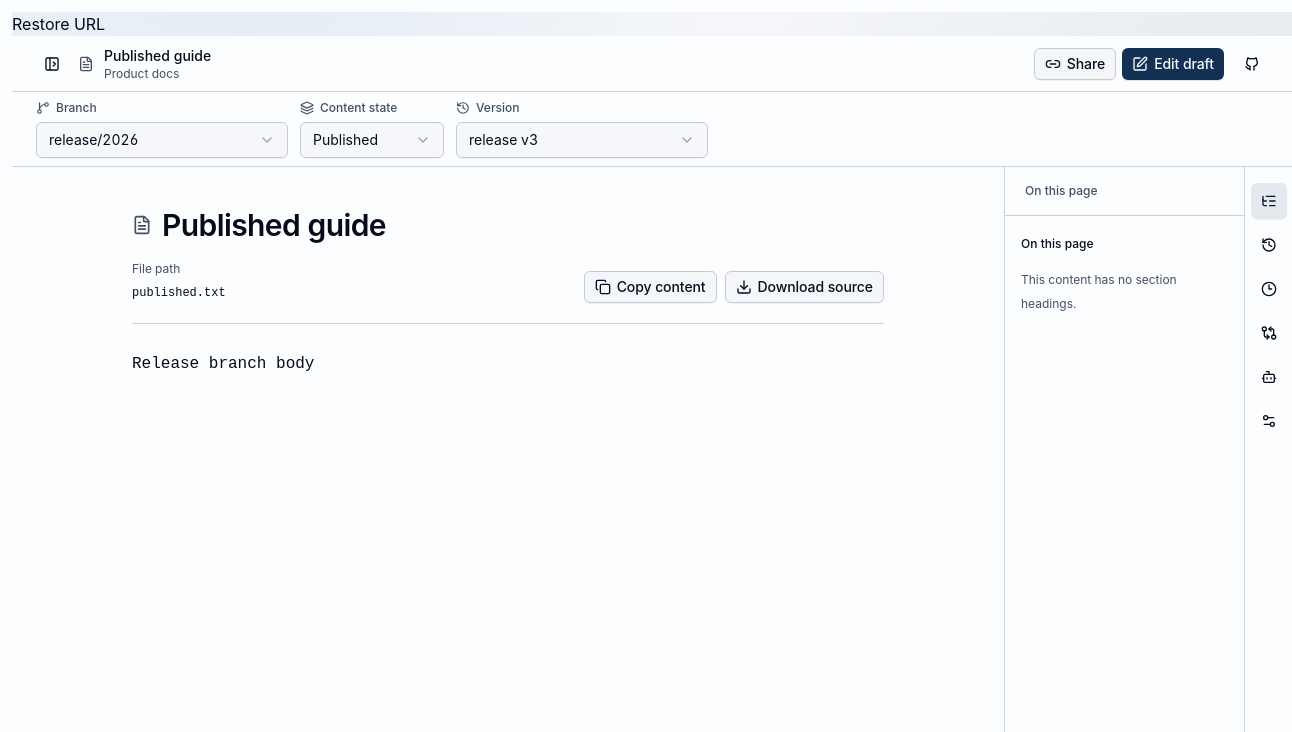
Test: document workspace › switches published and draft reading contexts within the current branch
The image size is (1292, 732).
Expected: the text "Release branch body" is shown, [132, 355, 314, 373]
What coordinates should you click on to do the following:
click the dropdown named "Content state"
I would click on:
 (372, 140)
Its box is [300, 122, 444, 158].
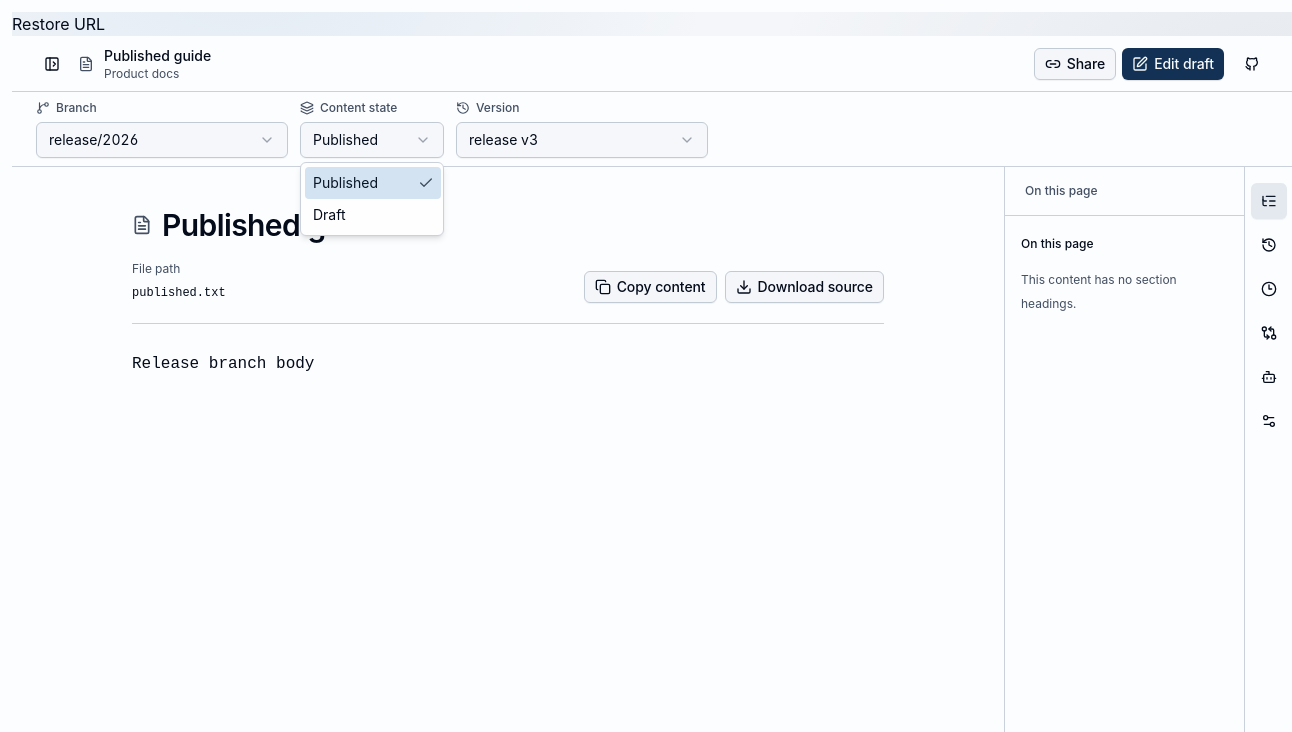
What coordinates should you click on to do the following:
click the option "Draft"
I would click on:
 (329, 214)
Its box is [313, 206, 346, 223].
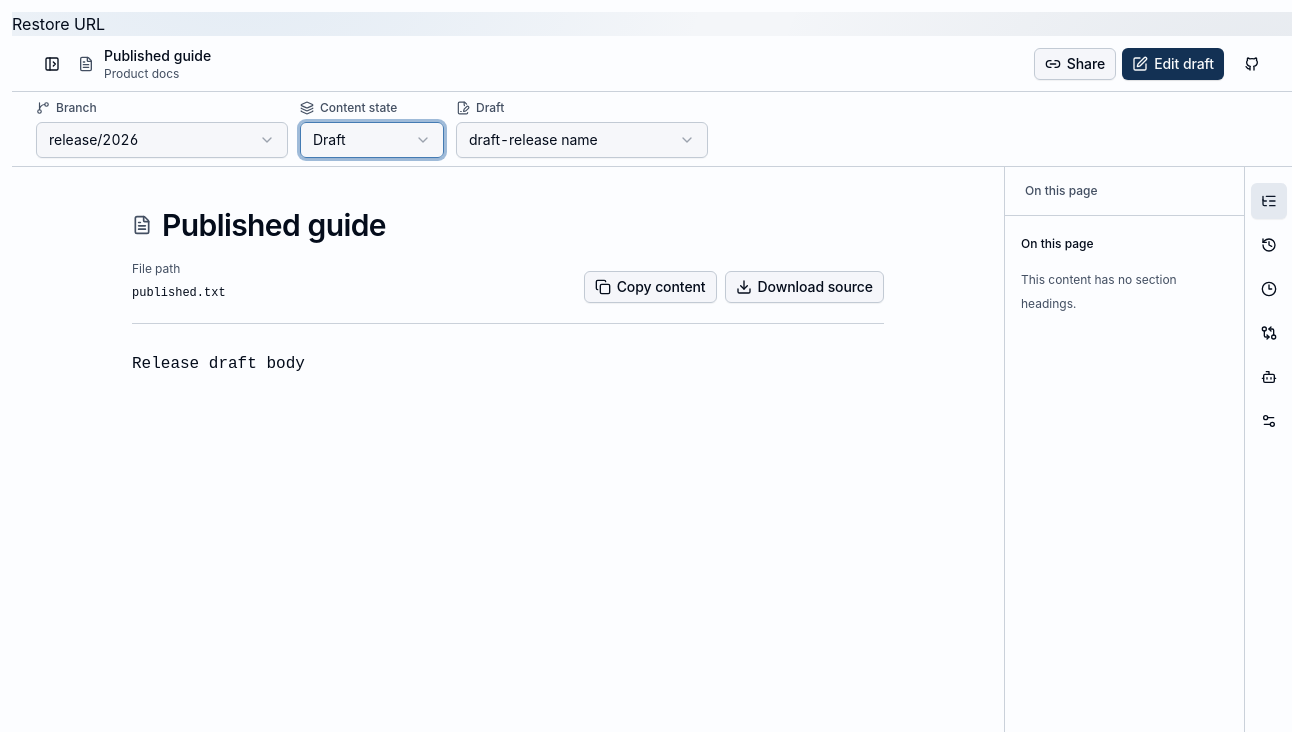
Result: the text "Release draft body" is shown at [132, 355, 305, 373]
Result: the dropdown labelled "draft" reads "draft-release name" at [456, 122, 708, 158]
Result: the text "Release branch body" is gone
What coordinates should you click on to do the following:
click the dropdown named "Content state"
I would click on:
 (372, 140)
Its box is [300, 122, 444, 158].
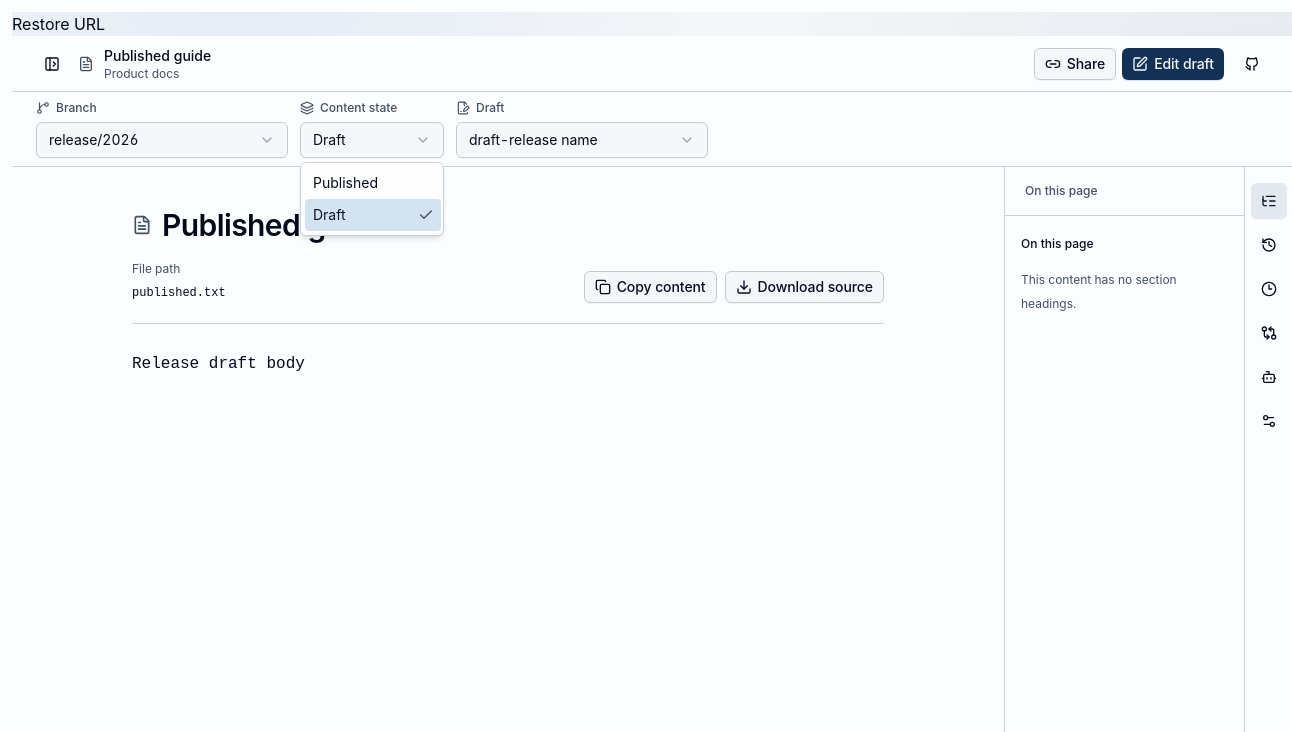
What coordinates should you click on to do the following:
click the option "Published"
I would click on:
 (346, 182)
Its box is [313, 174, 378, 191].
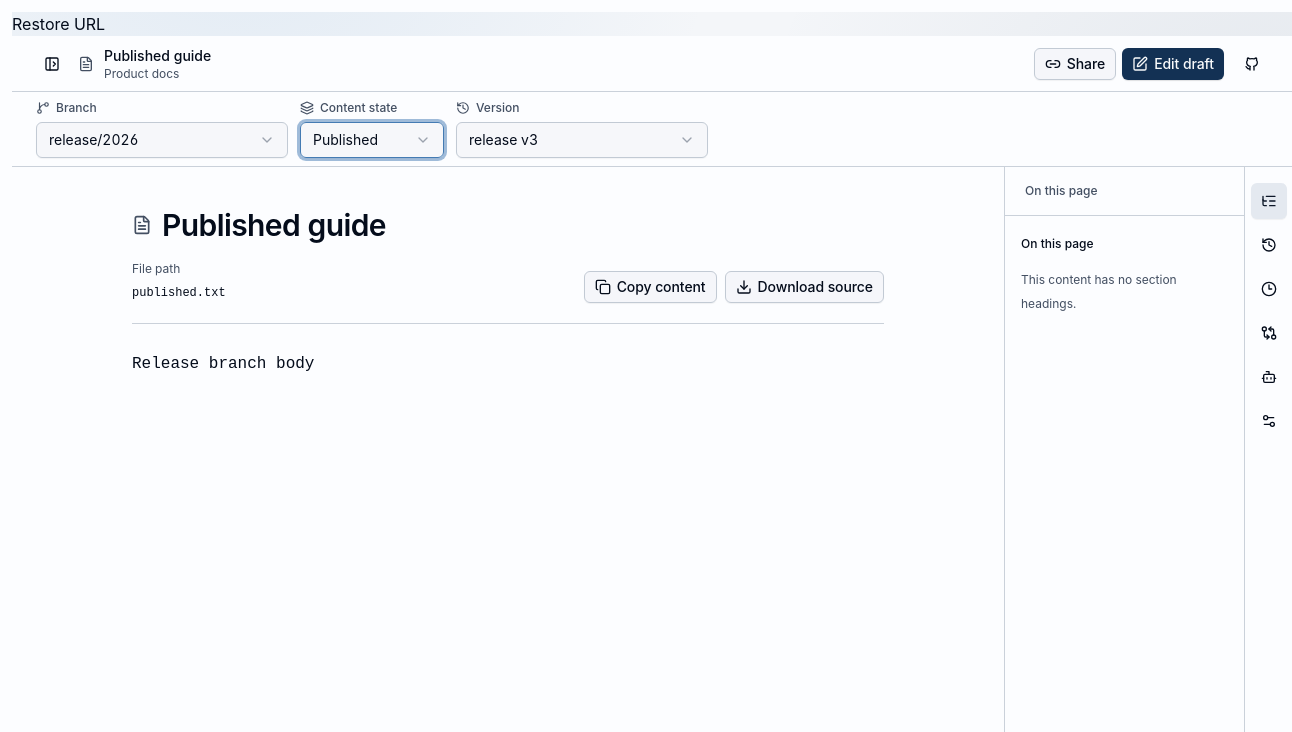
Expected: the dropdown named "Branch" reads "release/2026", [36, 122, 288, 158]
Result: the text "Release branch body" is shown at [132, 355, 314, 373]
Result: the text "Release draft body" is gone
